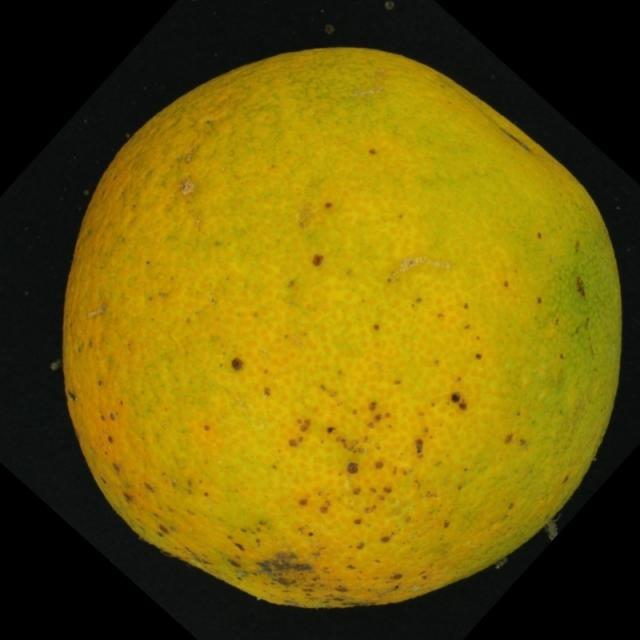grenning: (47, 38, 633, 615)
